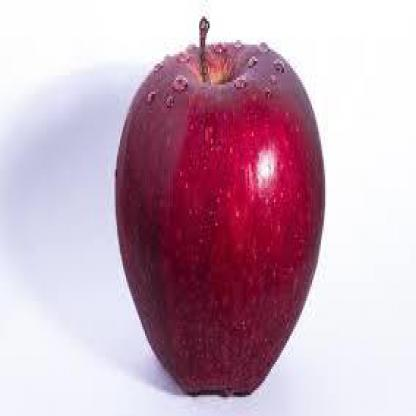apple: (114, 13, 328, 401)
